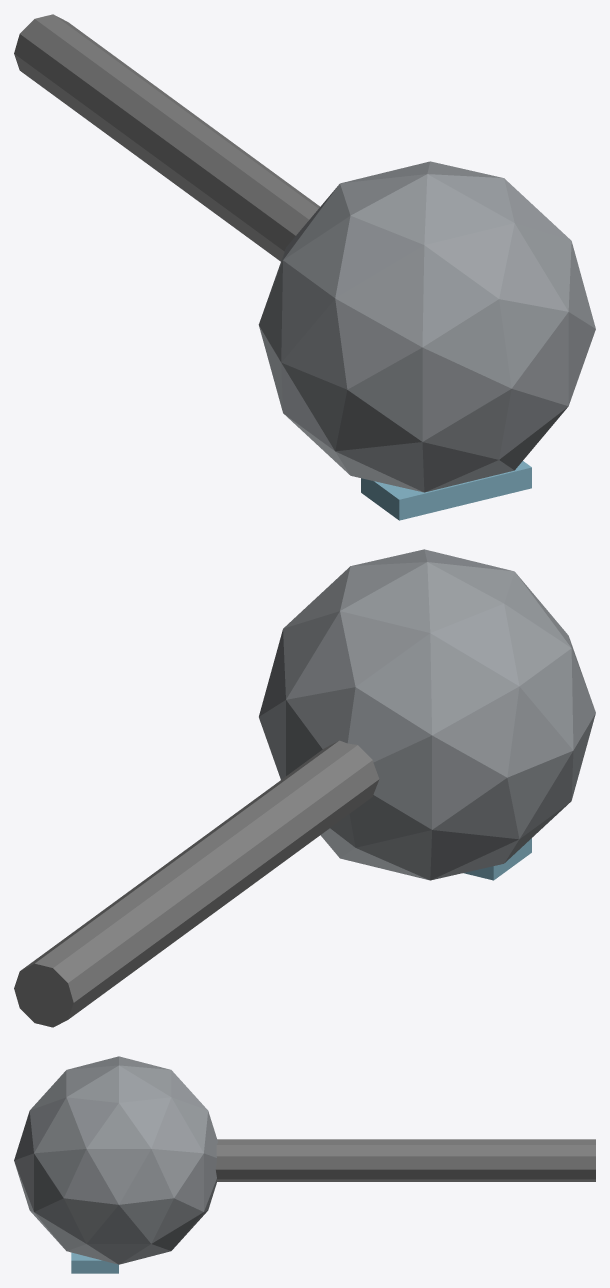
Rendered from city_parking_meter.glb.
3 views of the same model, one above another, from view 1: azimuth 30°, elevation 25°; view 2: azimuth 150°, elevation 25°; view 3: azimuth 270°, elevation 25° (orthographic). The views are drawn at different scales.
Parts seen in each view (by area): view 1: meter_head, post, screen; view 2: meter_head, post, screen; view 3: meter_head, post, screen.
Part boxes in pixels (<box>): meter_head: <box>258,161,595,492</box>; post: <box>14,14,319,261</box>; screen: <box>361,461,531,520</box>; meter_head: <box>259,549,595,880</box>; post: <box>14,740,379,1027</box>; screen: <box>463,838,531,880</box>; meter_head: <box>14,1056,217,1264</box>; post: <box>215,1139,595,1181</box>; screen: <box>71,1252,118,1273</box>.
Bounding box in the file's own units: 0.44 × 0.44 × 1.22.
